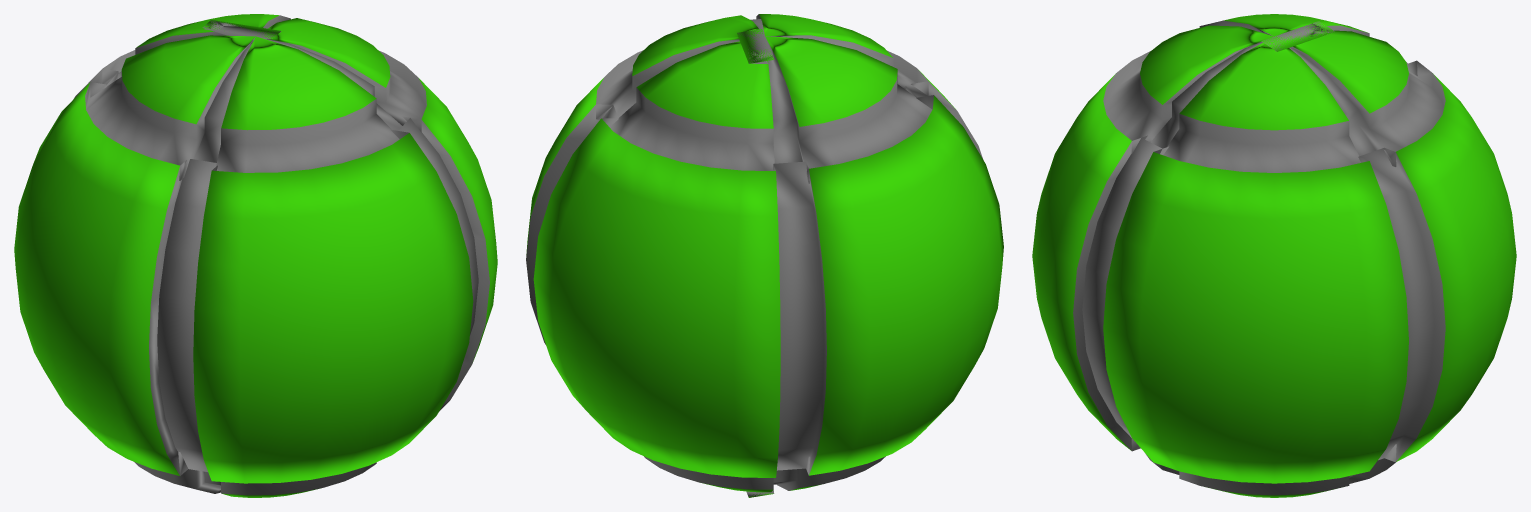
The model's file is GreenBubble.fbx.
3 renders of one model, left to right at view 1: azimuth 30°, elevation 25°; view 2: azimuth 150°, elevation 25°; view 3: azimuth 270°, elevation 25°, orthographic.
Parts seen in each view (by area): view 1: Sphere; view 2: Sphere; view 3: Sphere.
Part boxes in pixels (box(x1,y1,x2,y2)): Sphere: box(14, 14, 497, 497); Sphere: box(526, 14, 1003, 497); Sphere: box(1032, 14, 1516, 497).
Size of the model in its own units: 2 by 2.01 by 2.
